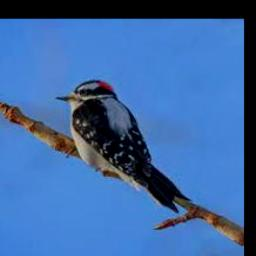Woodpecker: (55, 80, 190, 212)
